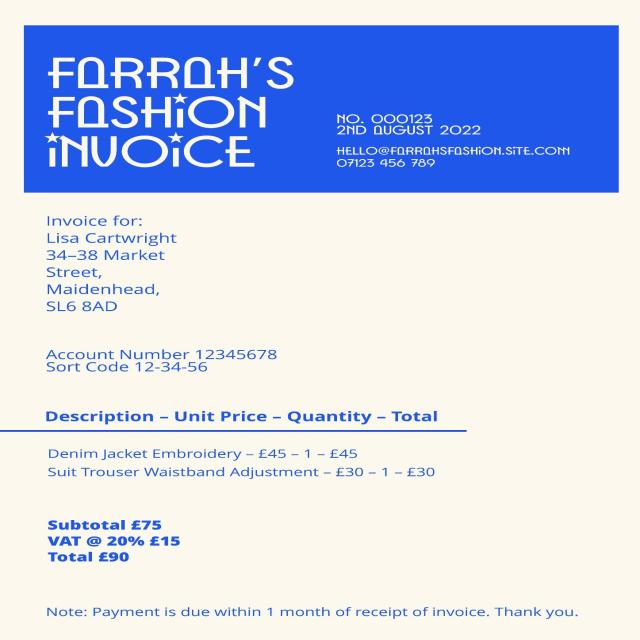paragraph: (33, 50, 300, 180), (36, 212, 208, 323), (37, 596, 590, 626), (12, 510, 201, 564), (32, 343, 314, 377), (331, 144, 577, 174), (331, 107, 496, 137)
table: (2, 407, 479, 486)
